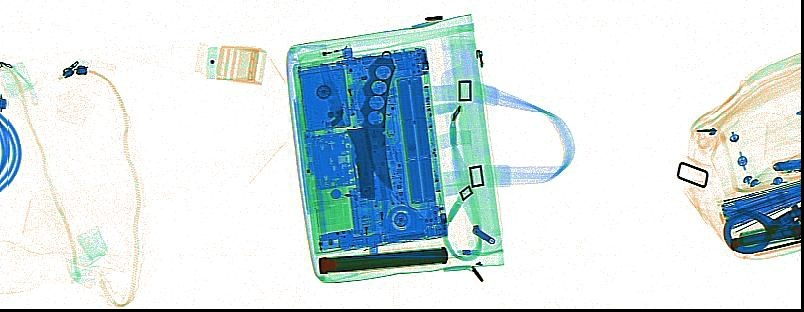handcuffs: (722, 203, 799, 253)
knife: (359, 49, 395, 190), (346, 126, 375, 199), (752, 238, 799, 256)
lighter: (296, 42, 352, 67)
